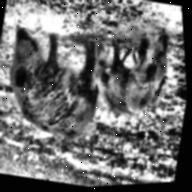boar: (0, 21, 112, 148), (81, 15, 178, 124)
